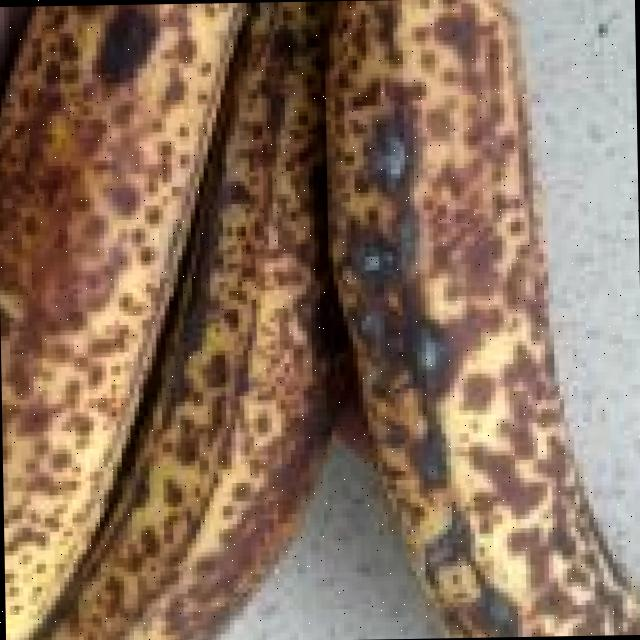Bad_Banana-0 day: (0, 0, 640, 640)
